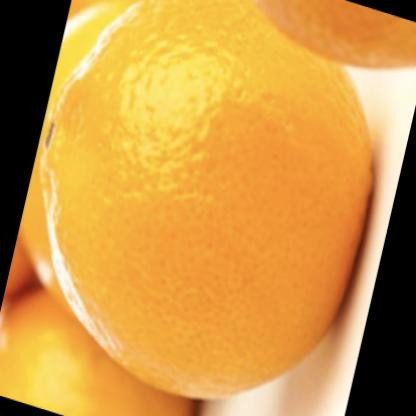fresh: (47, 1, 372, 398)
